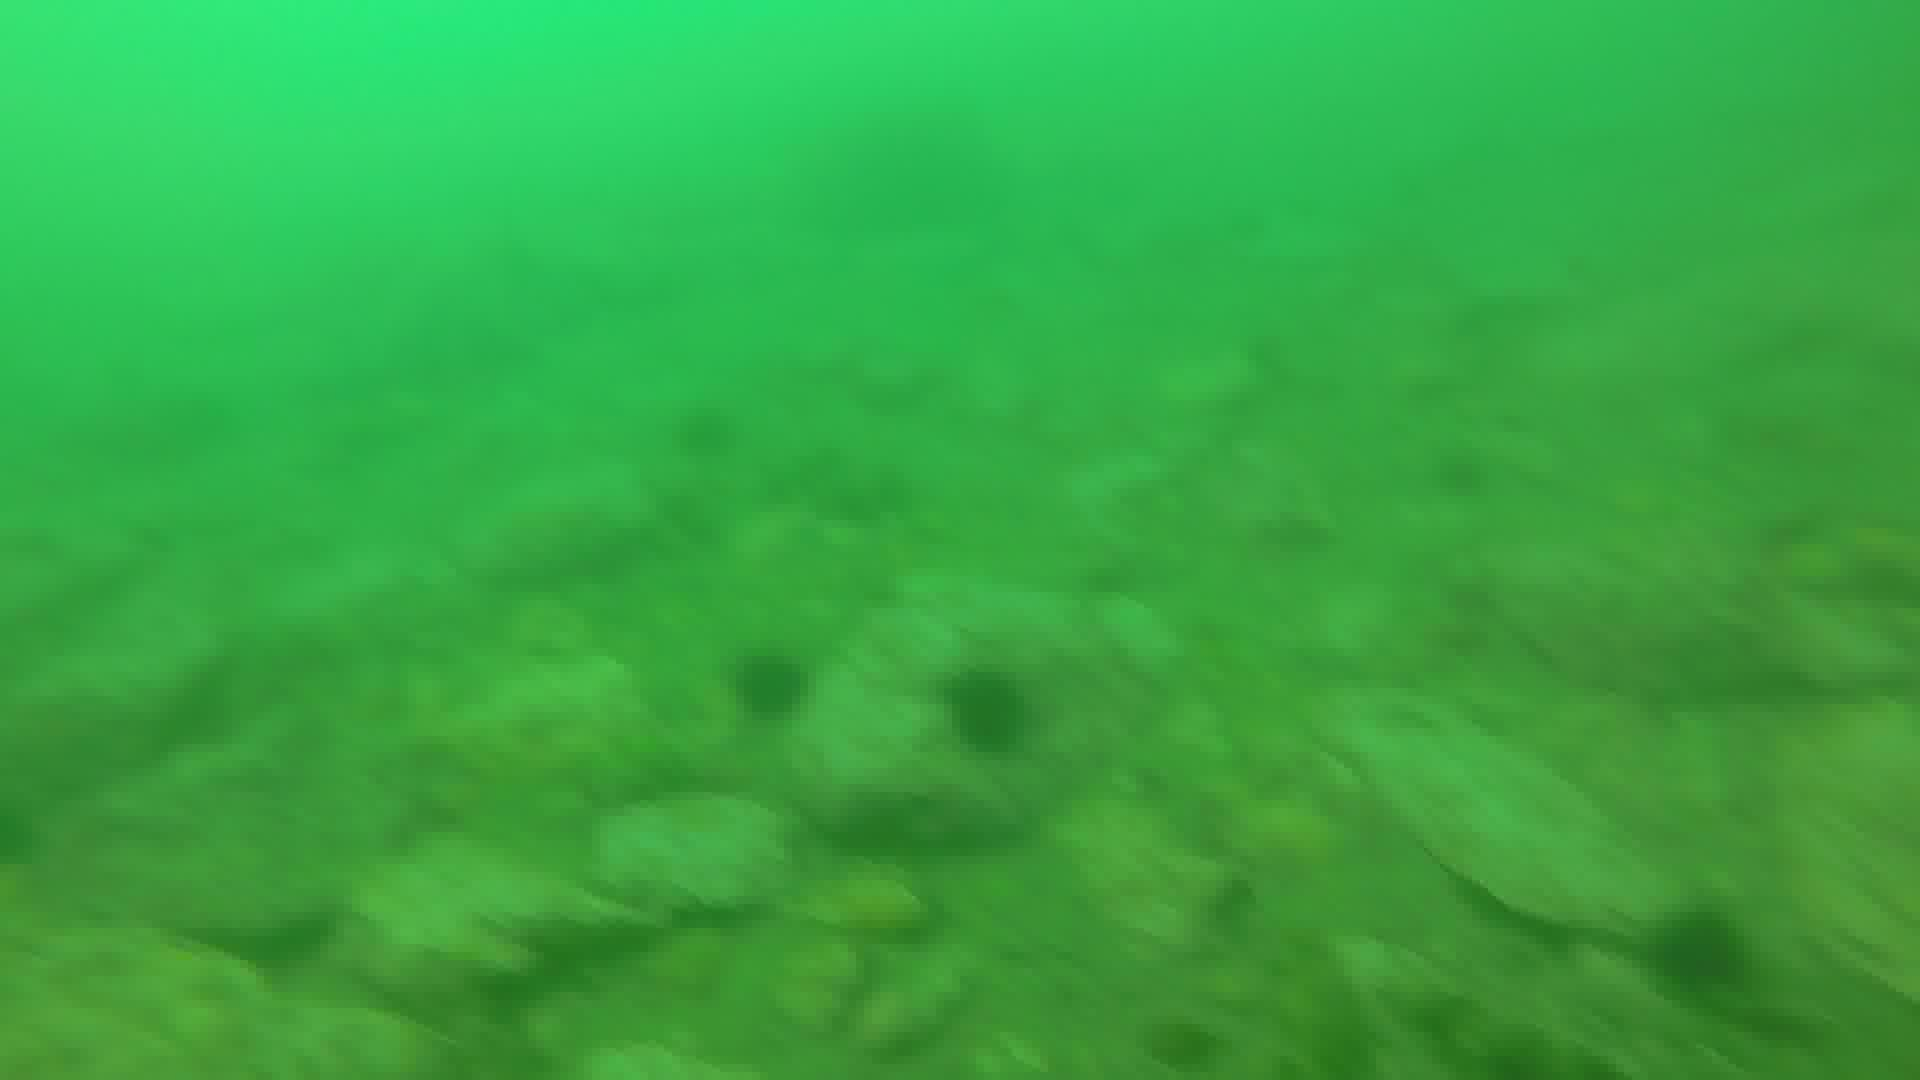echinus: (951, 665, 1039, 761), (1654, 895, 1747, 984), (740, 653, 814, 717)
